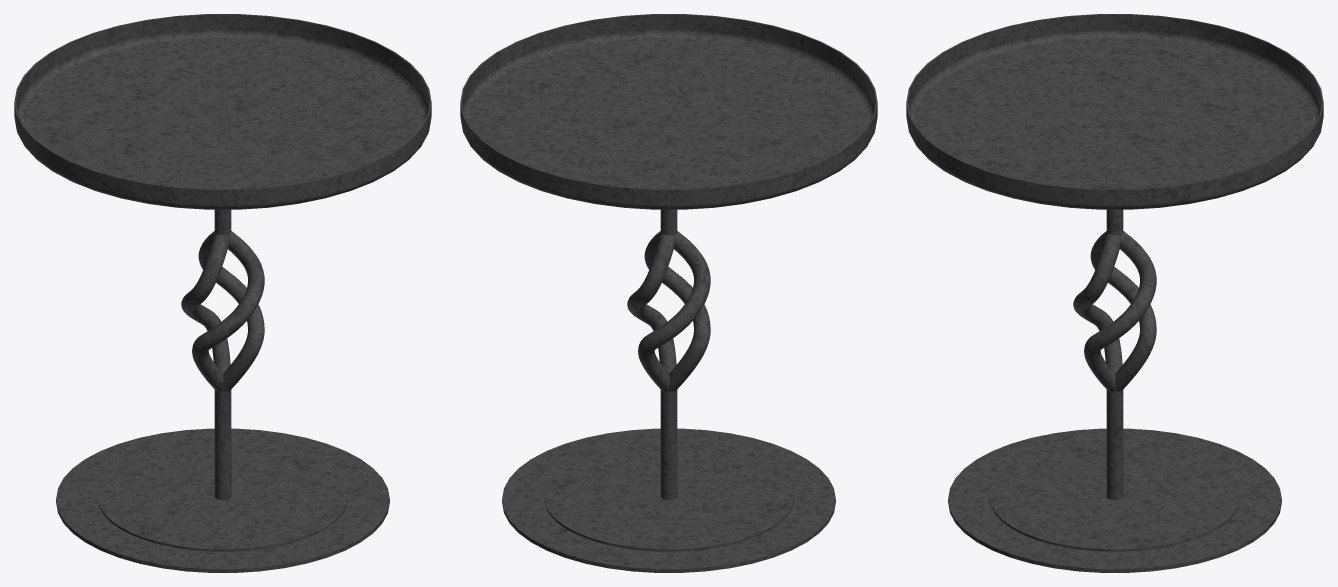
The model's file is helix_table_2-B7TvmqTy.glb.
3 renders of one model, left to right at view 1: azimuth 30°, elevation 25°; view 2: azimuth 150°, elevation 25°; view 3: azimuth 270°, elevation 25°, orthographic.
Visible parts, largest first — view 1: JoinedAsset; view 2: JoinedAsset; view 3: JoinedAsset.
Boxes of the visible parts, x1=… form: JoinedAsset: x1=14, y1=14, x2=431, y2=572; JoinedAsset: x1=460, y1=14, x2=877, y2=572; JoinedAsset: x1=906, y1=14, x2=1323, y2=572.
Size of the model in its own units: 0.4986 by 0.53 by 0.5.
Materials: 1 (1 with a texture image).
